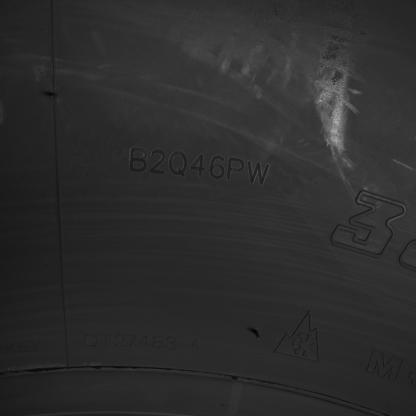ocr: (128, 146, 270, 188)
